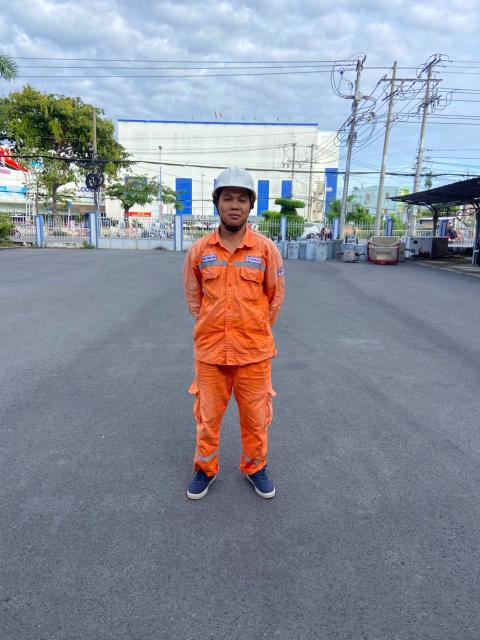helmet: (210, 163, 263, 201)
shoes: (239, 462, 289, 507), (185, 459, 225, 500)
